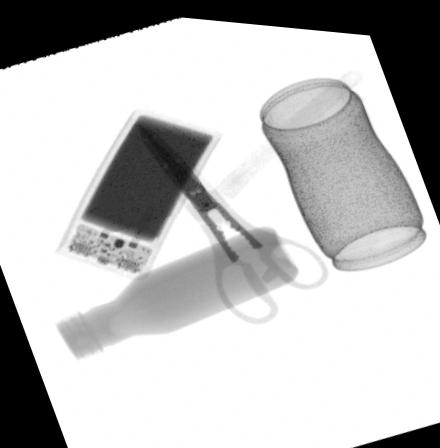Powerbank: (53, 107, 220, 276)
Scissors: (133, 120, 330, 321)
